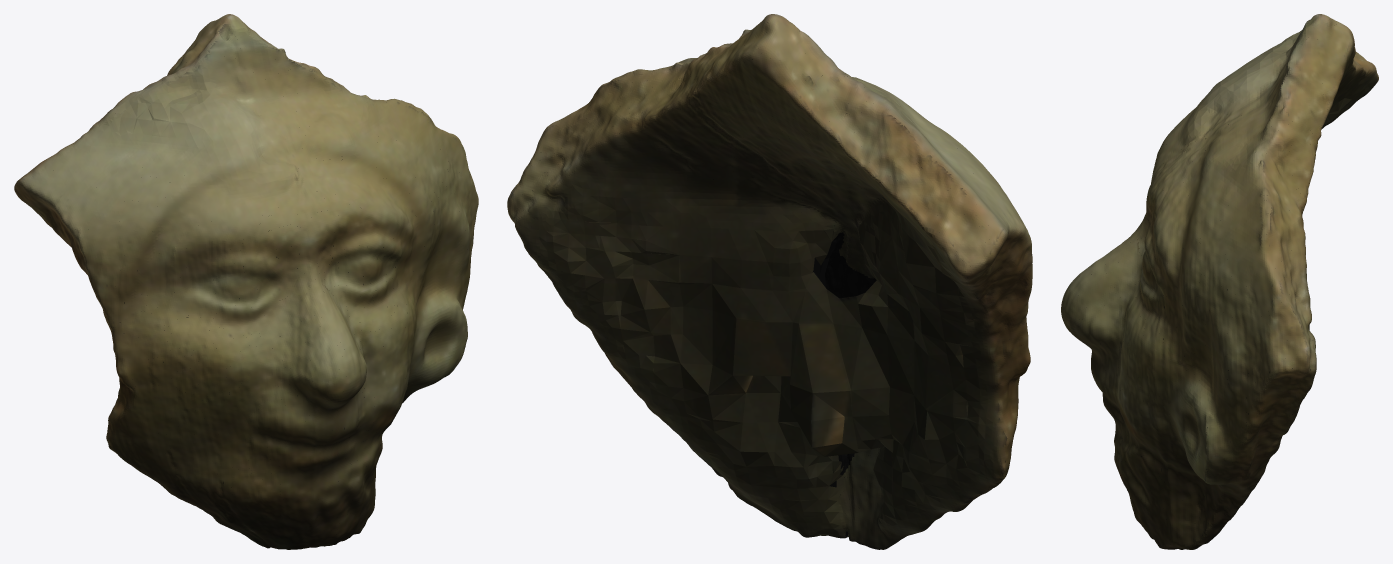
The model's file is Artifact-C_B183-Face _molded.fbx.
The picture shows the model from 3 angles, left to right: view 1: azimuth 30°, elevation 25°; view 2: azimuth 150°, elevation 25°; view 3: azimuth 270°, elevation 25°; orthographic projection. The views are drawn at different scales.
Visible parts, largest first — view 1: C_B183-Face _molded2; view 2: C_B183-Face _molded2; view 3: C_B183-Face _molded2.
Boxes of the visible parts, x1=… form: C_B183-Face _molded2: x1=14, y1=14, x2=478, y2=549; C_B183-Face _molded2: x1=507, y1=14, x2=1032, y2=549; C_B183-Face _molded2: x1=1061, y1=14, x2=1378, y2=549.
Bounding box in the file's own units: 6024 × 6414 × 3641.
Materials: 1 (1 with a texture image).
